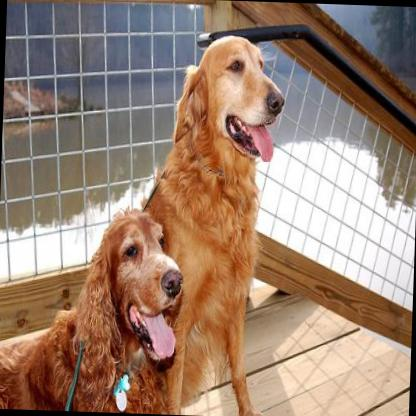Irish_setter: (0, 200, 188, 410)
